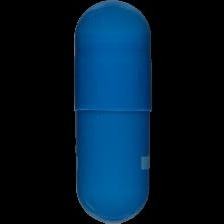10144-606: (0, 0, 224, 224)
